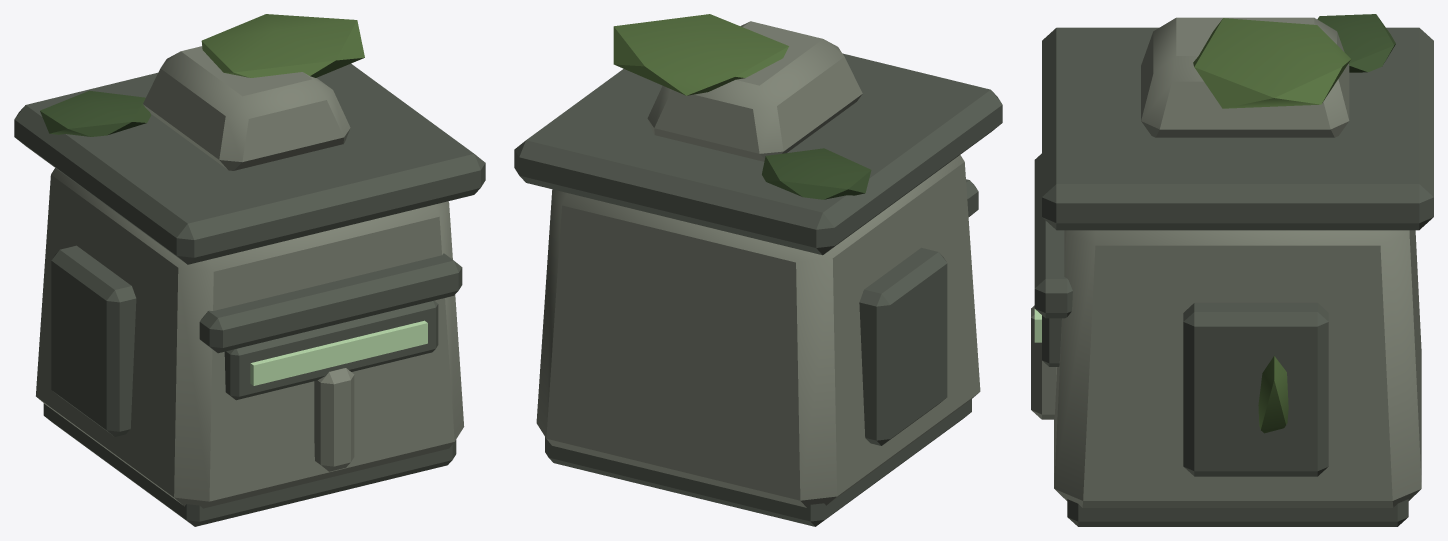
Rendered from sentinela_head.fbx.
3 views of the same model, side by side, from view 1: azimuth 30°, elevation 25°; view 2: azimuth 150°, elevation 25°; view 3: azimuth 270°, elevation 25° (orthographic). The views are drawn at different scales.
Parts seen in each view (by area): view 1: sentinela_head; view 2: sentinela_head; view 3: sentinela_head.
Part boxes in pixels (bbox=[...]): sentinela_head: bbox=[14, 14, 485, 526]; sentinela_head: bbox=[514, 14, 1002, 526]; sentinela_head: bbox=[1031, 14, 1433, 526].
Size of the model in its own units: 1.23 by 1.33 by 1.11.
